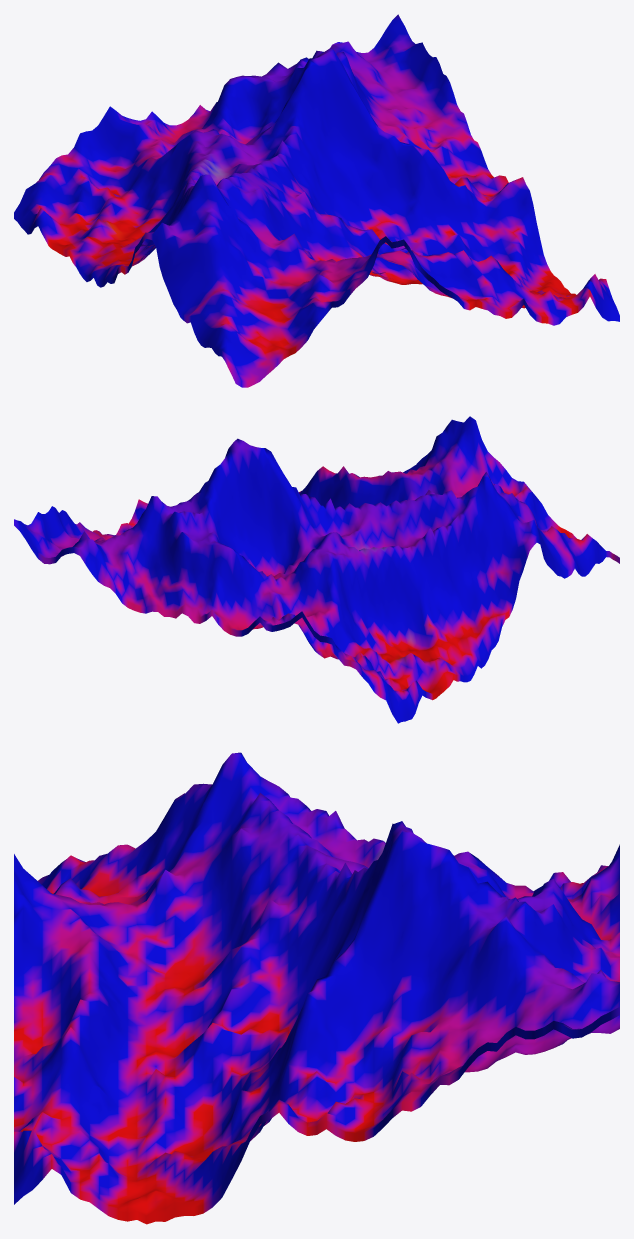
Rendered from chunk_6_7.glb.
3 renders of one model, top to bottom at view 1: azimuth 30°, elevation 25°; view 2: azimuth 150°, elevation 25°; view 3: azimuth 270°, elevation 25°, orthographic. The views are drawn at different scales.
Parts seen in each view (by area): view 1: LOD0; view 2: LOD0; view 3: LOD0.
Part boxes in pixels (x1,y1,x2,y2): LOD0: [14, 14, 619, 387]; LOD0: [14, 416, 619, 723]; LOD0: [14, 752, 619, 1224].
Size of what is drawn, in the model's own units: 256 by 138 by 256.
